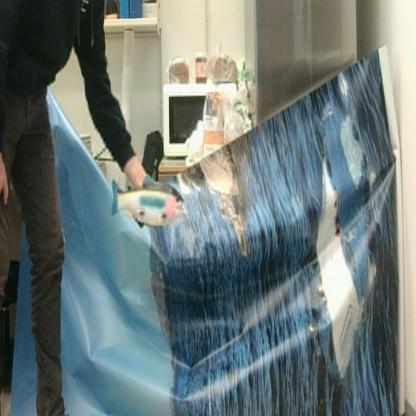rubberfish: (108, 174, 186, 230)
